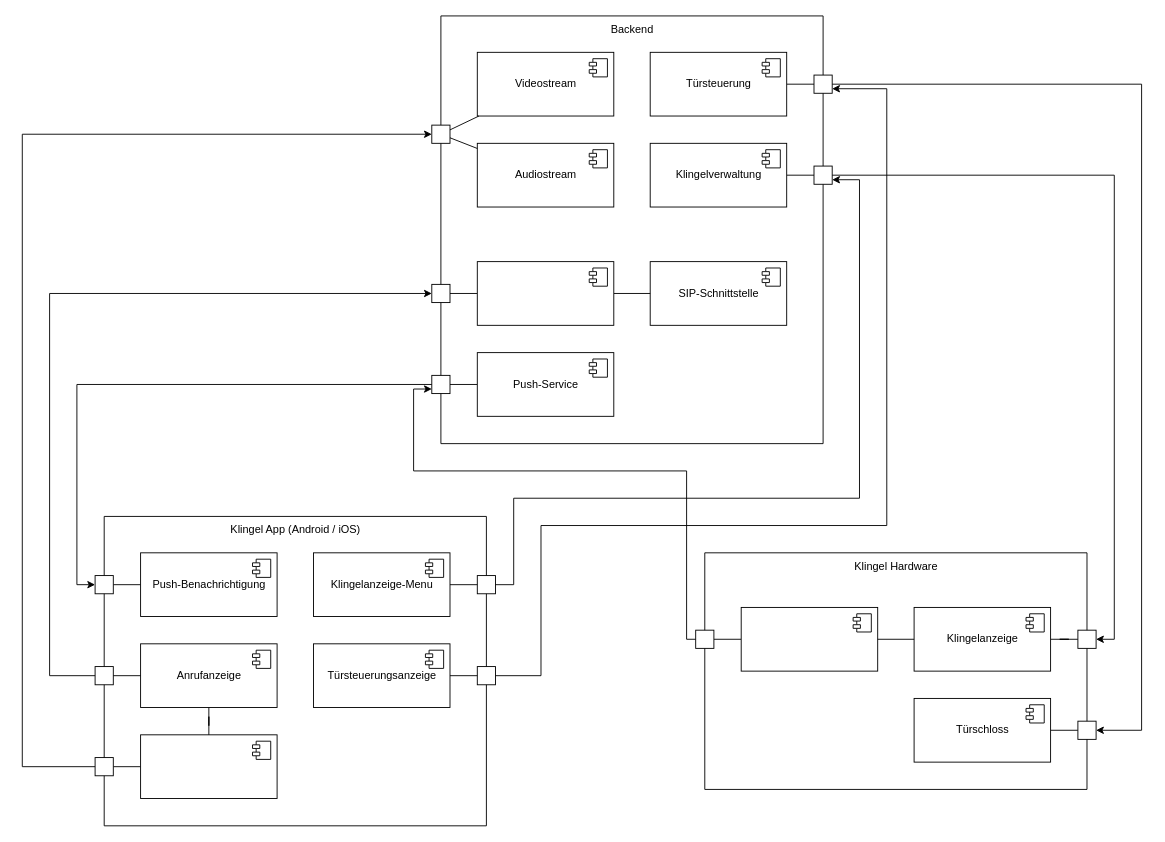
The diagram is 1165 pixels wide and 842 high, and some of its shapes have lost their labels. The centre of each missing label's shape, as x and y in pixels:
"Anrufsteuerung" goes at [545,293].
"Klingel" goes at [809,639].
"Videoplayer" goes at [208,766].
